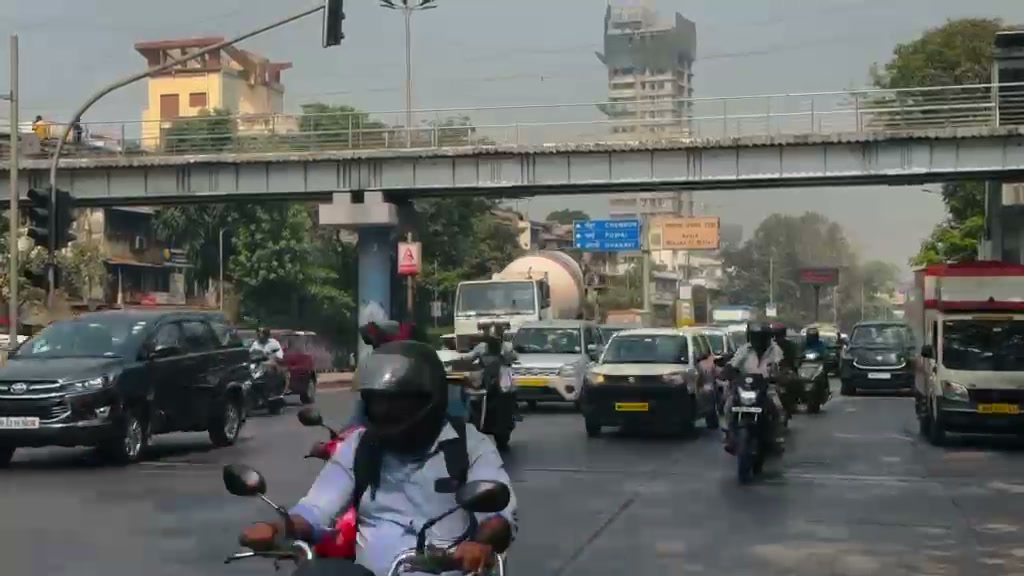bus: (451, 279, 546, 351)
car: (0, 307, 255, 466), (579, 327, 716, 438), (508, 319, 605, 409), (841, 320, 917, 396)
motorcycle: (222, 462, 506, 575), (222, 463, 364, 572), (718, 364, 785, 486), (247, 349, 291, 415), (795, 360, 831, 414)
pedestrian: (282, 342, 518, 573), (715, 319, 789, 448), (464, 336, 510, 440), (247, 325, 285, 400)
truck: (912, 261, 1023, 447), (452, 279, 543, 352)
